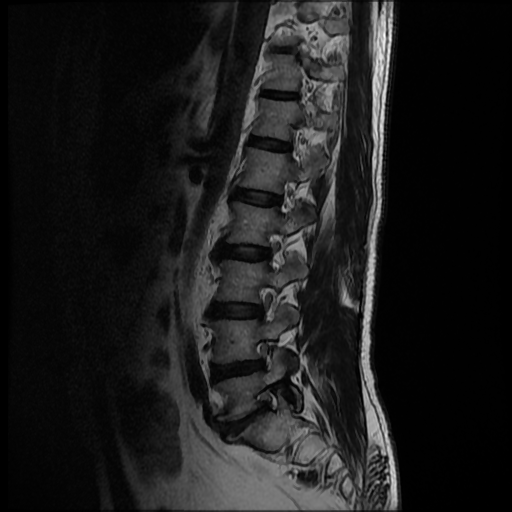LFS0: (245, 331, 285, 376), (251, 280, 284, 332)
LFS1: (247, 380, 285, 421)
